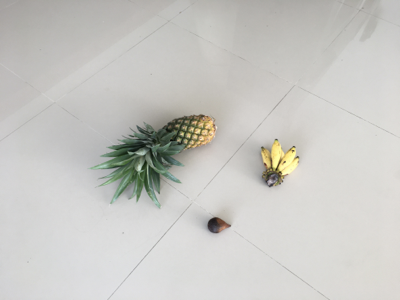banana: (260, 138, 301, 189)
pineapple: (88, 114, 217, 210)
snake fruit: (207, 217, 231, 233)
